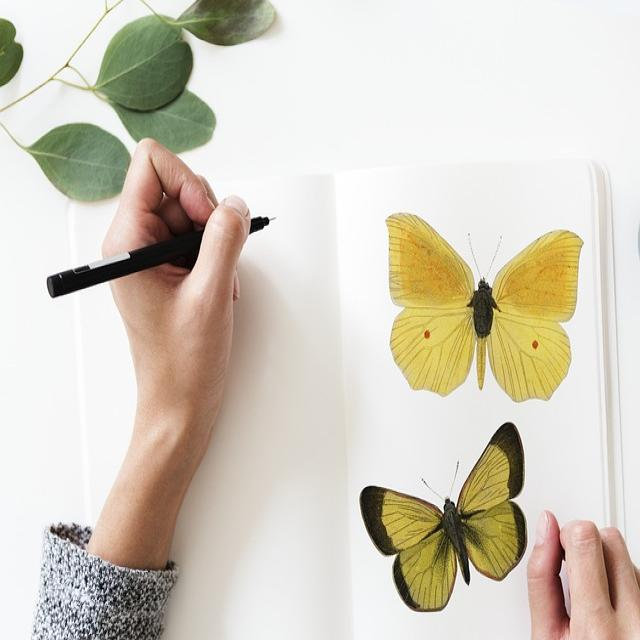butterfly: (384, 213, 584, 403), (360, 425, 529, 616)
